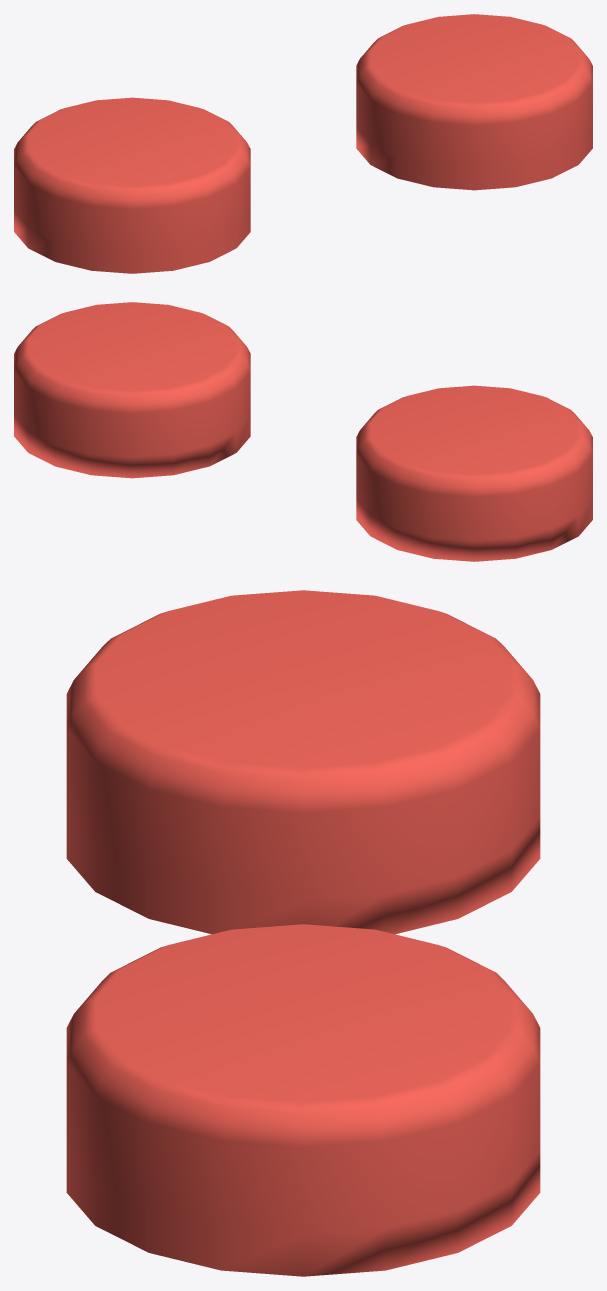
File: _eadcube8.fbx
3 views of the same model, one above another, from view 1: azimuth 30°, elevation 25°; view 2: azimuth 150°, elevation 25°; view 3: azimuth 270°, elevation 25° (orthographic). The views are drawn at different scales.
Parts seen in each view (by area): view 1: head_cube8; view 2: head_cube8; view 3: head_cube8.
Boxes of the visible parts, x1,y1,x2,y2 form: head_cube8: (14, 14, 592, 273); head_cube8: (14, 302, 592, 561); head_cube8: (66, 590, 540, 1276).
Bounding box in the file's own units: 161 × 22.62 × 59.94.
